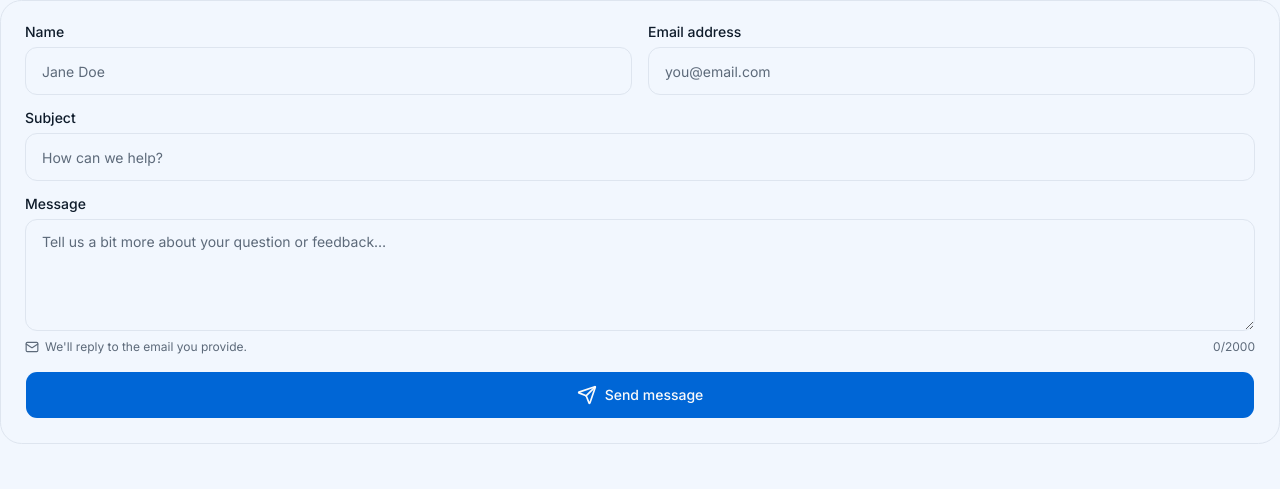
Test: ContactForm › shows schema errors for invalid input
The image size is (1280, 489).
Step 1. Type "A" into the field labelled "Name" → x=328, y=71, box [25,47,632,95]
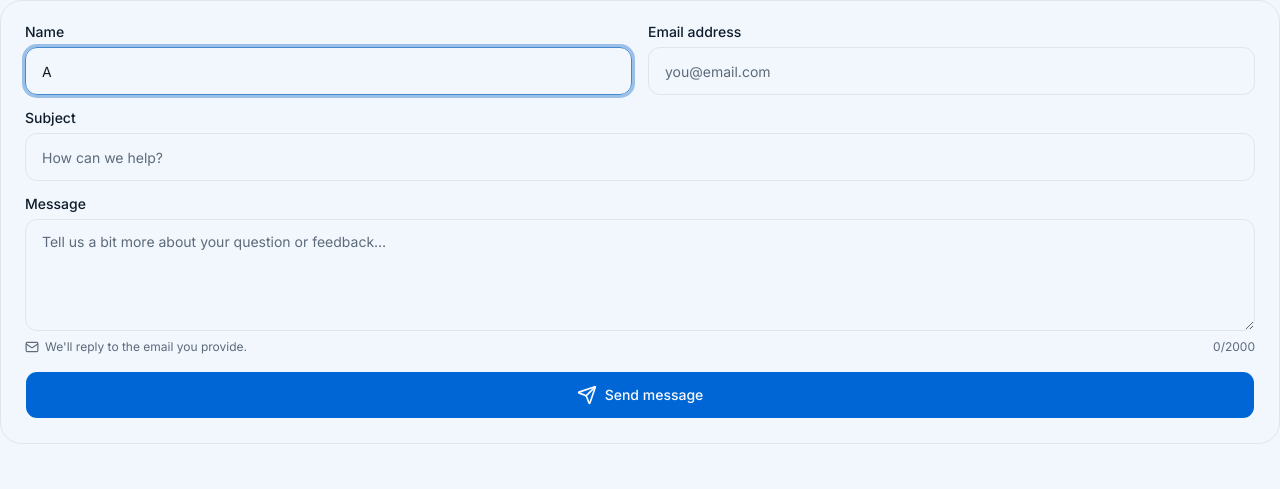
Step 2. Type "not-an-email" into the field labelled "Email address" → x=952, y=71, box [648,47,1255,95]
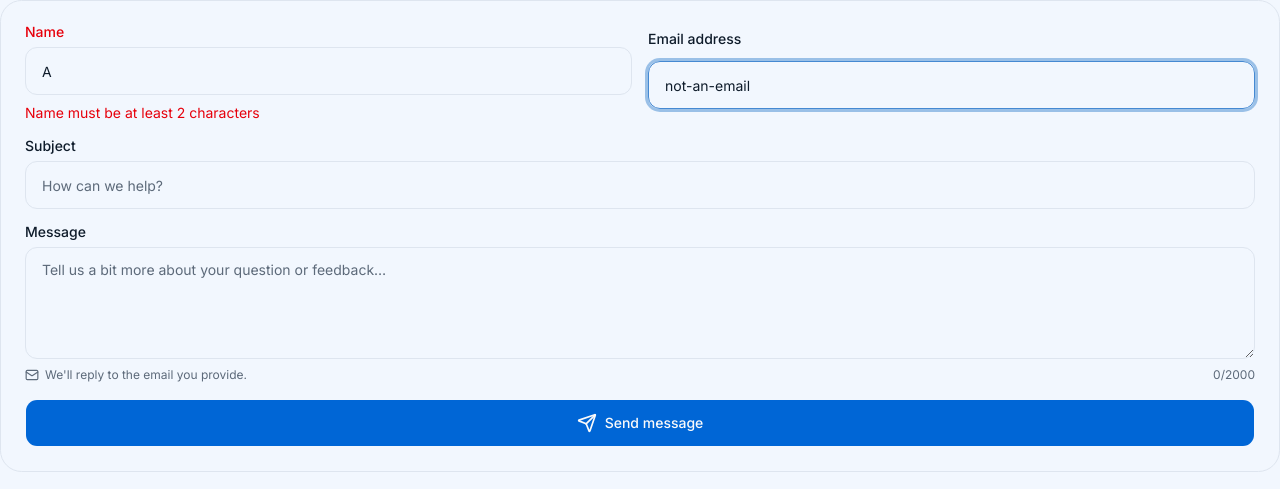
Step 3. Click the button "Send message" → x=640, y=423, box [25,399,1255,447]
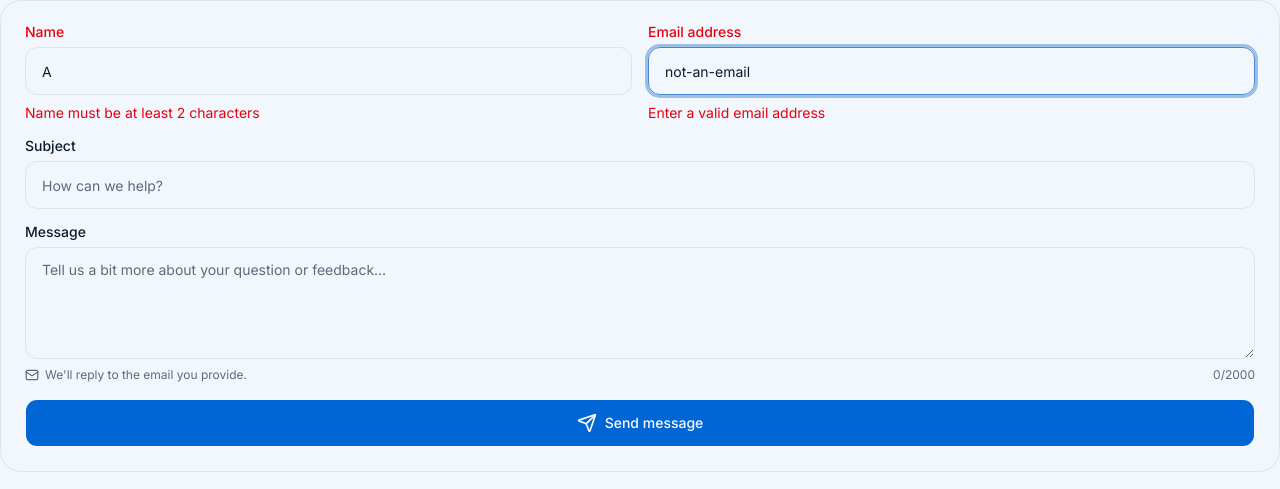
Expected: the text "Name must be at least 2 characters" is shown, [25,104,260,121]
Expected: the text "Enter a valid email address" is shown, [648,104,825,121]
